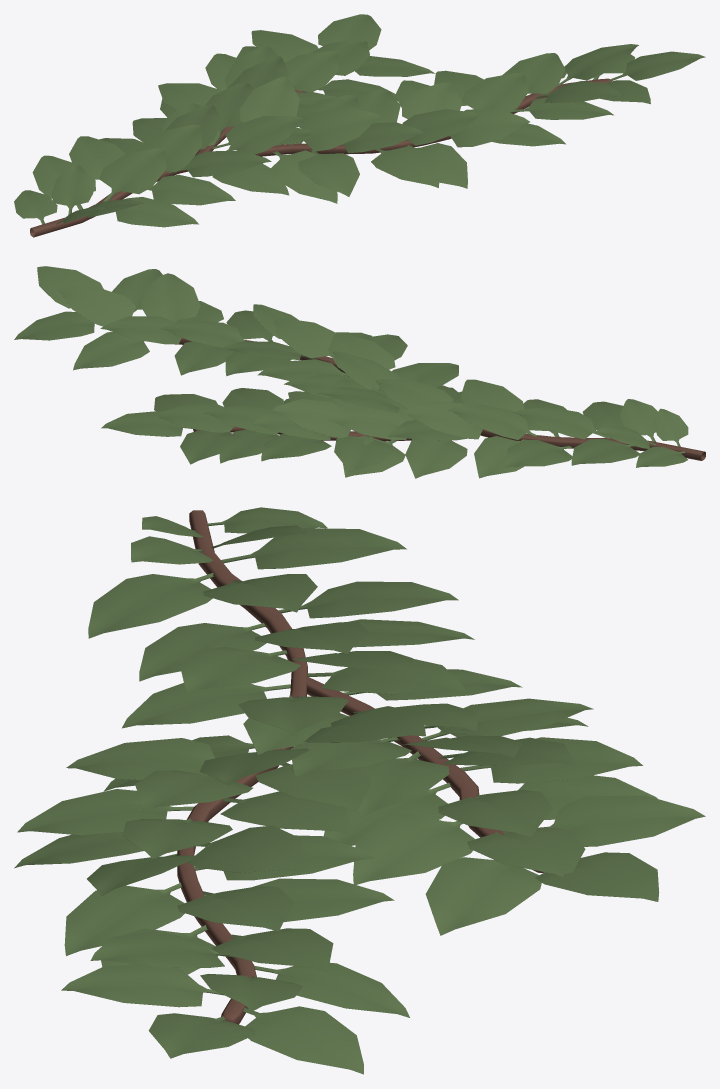
The model's file is vines.fbx.
3 renders of one model, top to bottom at view 1: azimuth 30°, elevation 25°; view 2: azimuth 150°, elevation 25°; view 3: azimuth 270°, elevation 25°, orthographic. The views are drawn at different scales.
Visible parts, largest first — view 1: tri_cluster11, tri_cluster16, tri_cluster17, tri_cluster4, tri_cluster5, tri_cluster6, tri_cluster7, tri_cluster14, tri_cluster2, tri_cluster3, tri_cluster15, tri_cluster1 (+10 smaller); view 2: tri_cluster1, tri_cluster15, tri_cluster, tri_cluster17, tri_cluster16, tri_cluster13, tri_cluster7, tri_cluster5, tri_cluster8, tri_cluster2, tri_cluster3, tri_cluster6 (+11 smaller); view 3: tri_cluster7, tri_cluster, tri_cluster17, tri_cluster8, tri_cluster3, tri_cluster5, tri_cluster6, tri_cluster14, tri_cluster16, tri_cluster1, tri_cluster9, tri_cluster4 (+10 smaller).
Boxes of the visible parts, x1,y1,x2,y2 form: tri_cluster11: (239,76,380,203); tri_cluster16: (69,124,235,205); tri_cluster17: (32,148,198,227); tri_cluster4: (402,82,529,188); tri_cluster5: (358,89,481,187); tri_cluster6: (296,95,424,196); tri_cluster7: (251,14,435,76); tri_cluster14: (162,103,302,195); tri_cluster2: (434,53,613,119); tri_cluster3: (395,73,565,146); tri_cluster15: (99,104,271,177); tri_cluster1: (535,44,638,102); tri_cluster1: (58,273,200,370); tri_cluster15: (402,379,524,478); tri_cluster: (14,266,162,340); tri_cluster17: (513,401,639,465); tri_cluster16: (448,399,573,467); tri_cluster13: (328,386,467,478); tri_cluster7: (101,394,242,464); tri_cluster5: (257,318,407,380); tri_cluster8: (157,388,283,463); tri_cluster2: (100,301,235,375); tri_cluster3: (160,310,291,376); tri_cluster6: (284,333,458,398); tri_cluster7: (425,795,705,935); tri_cluster: (61,964,363,1074); tri_cluster17: (88,528,406,638); tri_cluster8: (353,775,657,884); tri_cluster3: (64,835,374,955); tri_cluster5: (17,789,350,859); tri_cluster6: (66,738,371,811); tri_cluster14: (122,658,465,735); tri_cluster16: (139,581,458,681); tri_cluster1: (90,931,409,1017); tri_cluster9: (323,737,642,845); tri_cluster4: (14,825,305,896).
Size of the model in its own units: 37.2 by 2.76 by 18.92.
